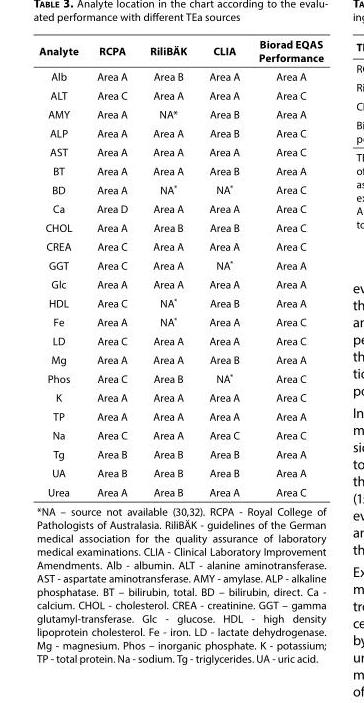table: (36, 36, 325, 664)
table column: (248, 36, 325, 664), (138, 36, 197, 664), (86, 36, 138, 664), (197, 36, 248, 664), (36, 36, 86, 664)
table column header: (36, 36, 325, 66)
table projected row header: (36, 501, 325, 664)
table row: (36, 501, 325, 664), (36, 36, 325, 66), (36, 462, 325, 482), (36, 66, 325, 85), (36, 85, 325, 104), (36, 104, 325, 123), (36, 123, 325, 142), (36, 160, 325, 179), (36, 179, 325, 198), (36, 198, 325, 217), (36, 217, 325, 236), (36, 236, 325, 255), (36, 255, 325, 274), (36, 292, 325, 311), (36, 311, 325, 330), (36, 330, 325, 349), (36, 349, 325, 368), (36, 368, 325, 387), (36, 387, 325, 406), (36, 406, 325, 425), (36, 425, 325, 444), (36, 482, 325, 501), (36, 142, 325, 160), (36, 274, 325, 292), (36, 444, 325, 462)
